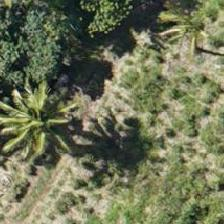coconut_tree: (0, 79, 85, 169)
